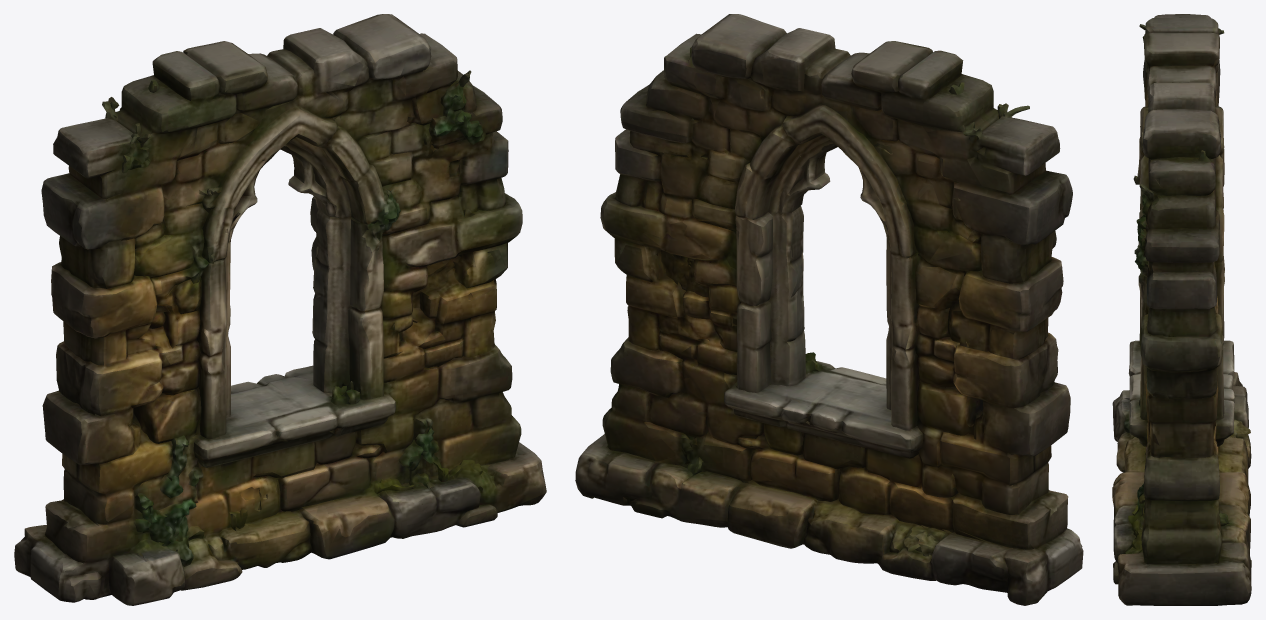
File: env_wall.glb
The picture shows the model from 3 angles, left to right: view 1: azimuth 30°, elevation 25°; view 2: azimuth 150°, elevation 25°; view 3: azimuth 270°, elevation 25°; orthographic projection. The views are drawn at different scales.
Parts seen in each view (by area): view 1: world; view 2: world; view 3: world.
Boxes of the visible parts, x1,y1,x2,y2 form: world: [14, 14, 546, 605]; world: [575, 14, 1083, 605]; world: [1112, 14, 1251, 605].
Bounding box in the file's own units: 1.5 × 1.5 × 0.4269.
1 material, 1 textured.
